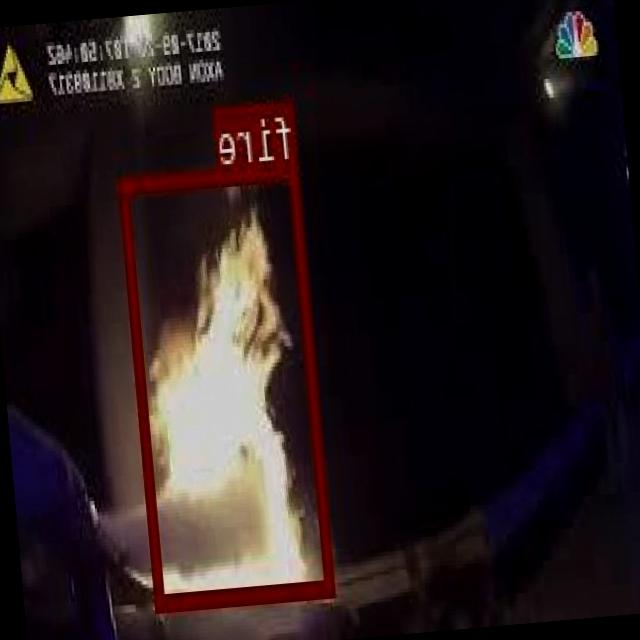fire: (120, 158, 335, 608)
